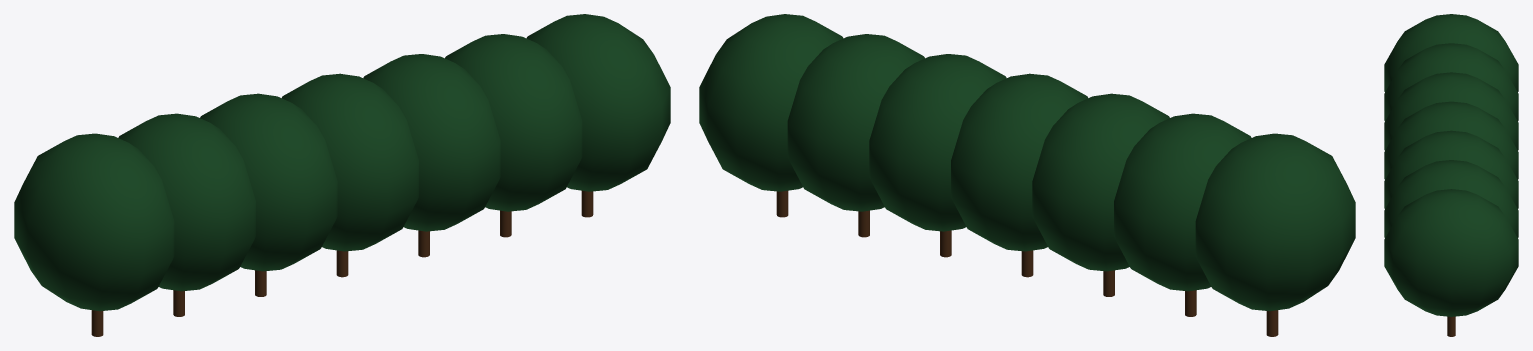
Rendered from Soveny.obj.
3 renders of one model, left to right at view 1: azimuth 30°, elevation 25°; view 2: azimuth 150°, elevation 25°; view 3: azimuth 270°, elevation 25°, orthographic. The views are drawn at different scales.
Bounding box in the file's own units: 3.08 × 0.9 × 0.7799.
